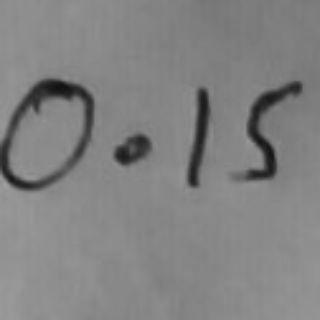.: (110, 131, 156, 168)
0: (1, 74, 98, 194)
1: (184, 84, 213, 191)
5: (229, 80, 308, 184)
